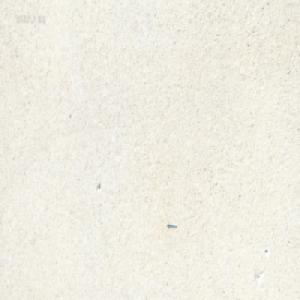Nail: (167, 221, 177, 228)
